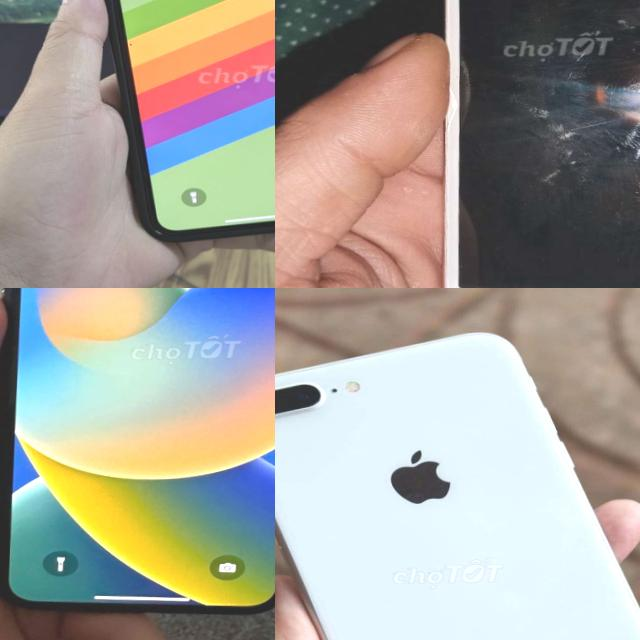gen_11: (81, 0, 275, 252)
gen_6: (431, 0, 640, 288)
gen_7_8: (275, 321, 640, 640)
gen_x_xs: (0, 288, 275, 618)
